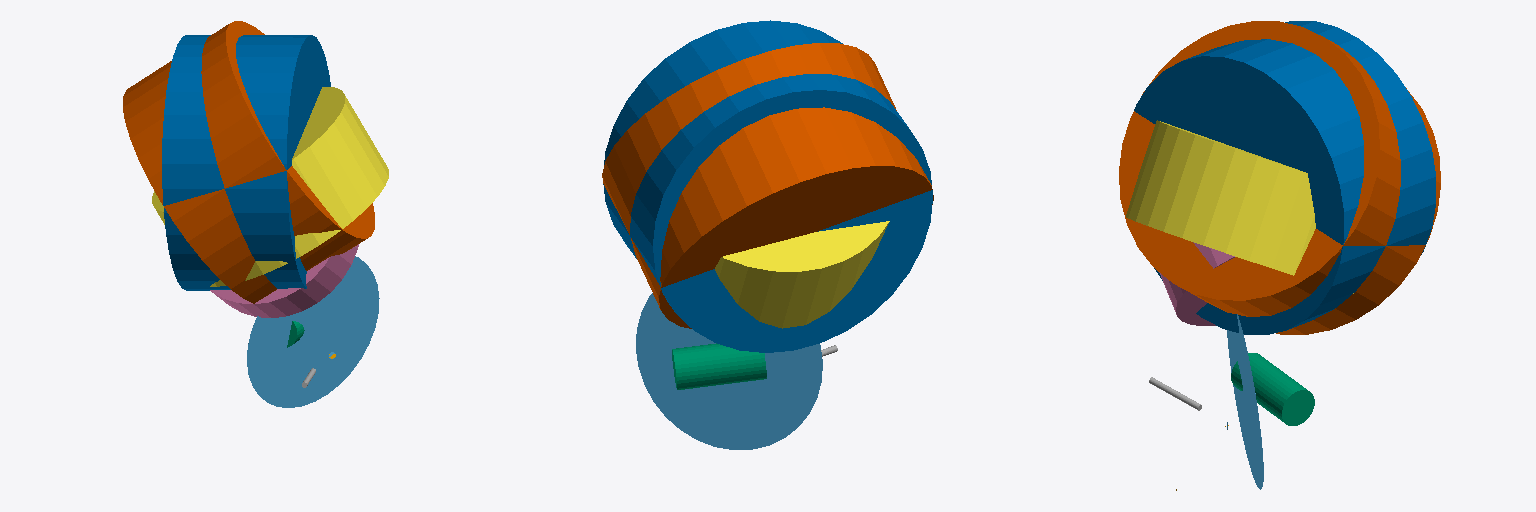
URDF robot description (pepe):
<robot name="pepe">
	<link name="0">
		<visual>
			<geometry>
				<cylinder length="0.019972807067224967" radius="0.002011686301548709"/>
			</geometry>
		</visual>
		<collision>
			<geometry>
				<cylinder length="0.019972807067224967" radius="0.002011686301548709"/>
			</geometry>
		</collision>
		<inertial>
			<mass value="2.5392735959833216e-07"/>
			<inertia ixx="0.03" iyy="0.03" izz="0.03" ixy="0" ixz="0" iyx="0"/>
		</inertial>
	</link>
	<link name="11">
		<visual>
			<geometry>
				<cylinder length="0.00018669200855736634" radius="0.6433571912630214"/>
			</geometry>
		</visual>
		<collision>
			<geometry>
				<cylinder length="0.00018669200855736634" radius="0.6433571912630214"/>
			</geometry>
		</collision>
		<inertial>
			<mass value="0.00024276156039558443"/>
			<inertia ixx="0.03" iyy="0.03" izz="0.03" ixy="0" ixz="0" iyx="0"/>
		</inertial>
	</link>
	<link name="22">
		<visual>
			<geometry>
				<cylinder length="0.5825346973094198" radius="0.1344101030337398"/>
			</geometry>
		</visual>
		<collision>
			<geometry>
				<cylinder length="0.5825346973094198" radius="0.1344101030337398"/>
			</geometry>
		</collision>
		<inertial>
			<mass value="0.03306248549946934"/>
			<inertia ixx="0.03" iyy="0.03" izz="0.03" ixy="0" ixz="0" iyx="0"/>
		</inertial>
	</link>
	<link name="33">
		<visual>
			<geometry>
				<cylinder length="0.6767822617877952" radius="0.8325034157491421"/>
			</geometry>
		</visual>
		<collision>
			<geometry>
				<cylinder length="0.6767822617877952" radius="0.8325034157491421"/>
			</geometry>
		</collision>
		<inertial>
			<mass value="1.473570397274502"/>
			<inertia ixx="0.03" iyy="0.03" izz="0.03" ixy="0" ixz="0" iyx="0"/>
		</inertial>
	</link>
	<link name="74">
		<visual>
			<geometry>
				<cylinder length="0.9525721408762844" radius="0.9599301255418282"/>
			</geometry>
		</visual>
		<collision>
			<geometry>
				<cylinder length="0.9525721408762844" radius="0.9599301255418282"/>
			</geometry>
		</collision>
		<inertial>
			<mass value="2.7575728297932733"/>
			<inertia ixx="0.03" iyy="0.03" izz="0.03" ixy="0" ixz="0" iyx="0"/>
		</inertial>
	</link>
	<link name="75">
		<visual>
			<geometry>
				<cylinder length="0.9525721408762844" radius="0.9599301255418282"/>
			</geometry>
		</visual>
		<collision>
			<geometry>
				<cylinder length="0.9525721408762844" radius="0.9599301255418282"/>
			</geometry>
		</collision>
		<inertial>
			<mass value="2.7575728297932733"/>
			<inertia ixx="0.03" iyy="0.03" izz="0.03" ixy="0" ixz="0" iyx="0"/>
		</inertial>
	</link>
	<link name="46">
		<visual>
			<geometry>
				<cylinder length="0.32991061629635154" radius="0.659888503144035"/>
			</geometry>
		</visual>
		<collision>
			<geometry>
				<cylinder length="0.32991061629635154" radius="0.659888503144035"/>
			</geometry>
		</collision>
		<inertial>
			<mass value="0.45132281440264777"/>
			<inertia ixx="0.03" iyy="0.03" izz="0.03" ixy="0" ixz="0" iyx="0"/>
		</inertial>
	</link>
	<link name="67">
		<visual>
			<geometry>
				<cylinder length="0.4282506855319457" radius="0.021542928580594145"/>
			</geometry>
		</visual>
		<collision>
			<geometry>
				<cylinder length="0.4282506855319457" radius="0.021542928580594145"/>
			</geometry>
		</collision>
		<inertial>
			<mass value="0.0006243921334717215"/>
			<inertia ixx="0.03" iyy="0.03" izz="0.03" ixy="0" ixz="0" iyx="0"/>
		</inertial>
	</link>
	<link name="58">
		<visual>
			<geometry>
				<cylinder length="0.00153756204312816" radius="0.02708229181987041"/>
			</geometry>
		</visual>
		<collision>
			<geometry>
				<cylinder length="0.00153756204312816" radius="0.02708229181987041"/>
			</geometry>
		</collision>
		<inertial>
			<mass value="3.5428547611058314e-06"/>
			<inertia ixx="0.03" iyy="0.03" izz="0.03" ixy="0" ixz="0" iyx="0"/>
		</inertial>
	</link>
	<link name="59">
		<visual>
			<geometry>
				<cylinder length="0.00153756204312816" radius="0.02708229181987041"/>
			</geometry>
		</visual>
		<collision>
			<geometry>
				<cylinder length="0.00153756204312816" radius="0.02708229181987041"/>
			</geometry>
		</collision>
		<inertial>
			<mass value="3.5428547611058314e-06"/>
			<inertia ixx="0.03" iyy="0.03" izz="0.03" ixy="0" ixz="0" iyx="0"/>
		</inertial>
	</link>
	<joint name="11_to_0" type="revolute">
		<parent link="0"/>
		<child link="11"/>
		<axis xyz="0 0 1"/>
		<limit effort="1" upper="-3.1415" lower="3.1415" velocity="1"/>
		<origin rpy="4.599220098856529 3.612390086619138 0.21865470734290898" xyz="0.6270726565351545 0.45386870664634127 0.9934344682645572"/>
	</joint>
	<joint name="22_to_11" type="revolute">
		<parent link="11"/>
		<child link="22"/>
		<axis xyz="1 0 0"/>
		<limit effort="1" upper="-3.1415" lower="3.1415" velocity="1"/>
		<origin rpy="11.626505171087503 5.516802298202429 0.7791319437868018" xyz="0.0019279200350848108 0.0005248485264476697 0.18877120123119884"/>
	</joint>
	<joint name="33_to_11" type="revolute">
		<parent link="11"/>
		<child link="33"/>
		<axis xyz="0 1 0"/>
		<limit effort="1" upper="-3.1415" lower="3.1415" velocity="1"/>
		<origin rpy="15.855197879314145 4.22851677776207 0.5600087386388388" xyz="0.807546668794237 0.9347432046170919 0.26792392211434435"/>
	</joint>
	<joint name="74_to_33" type="revolute">
		<parent link="33"/>
		<child link="74"/>
		<axis xyz="0 1 0"/>
		<limit effort="1" upper="-3.1415" lower="3.1415" velocity="1"/>
		<origin rpy="1.1237722998584785 3.348510114491183 5.698737545195735" xyz="0.06871412873716953 0.028629970202144972 0.23027762422650355"/>
	</joint>
	<joint name="75_to_33" type="revolute">
		<parent link="33"/>
		<child link="75"/>
		<axis xyz="0 1 0"/>
		<limit effort="1" upper="-3.1415" lower="3.1415" velocity="1"/>
		<origin rpy="1.6856584497877178 3.348510114491183 5.698737545195735" xyz="0.06871412873716953 0.028629970202144972 0.23027762422650355"/>
	</joint>
	<joint name="46_to_11" type="revolute">
		<parent link="11"/>
		<child link="46"/>
		<axis xyz="0 0 1"/>
		<limit effort="1" upper="-3.1415" lower="3.1415" velocity="1"/>
		<origin rpy="0.20102529232781646 1.3953726500600625 3.620509695951334" xyz="0.6345348520150791 0.6369416216841768 0.23249578398044024"/>
	</joint>
	<joint name="67_to_46" type="revolute">
		<parent link="46"/>
		<child link="67"/>
		<axis xyz="1 0 0"/>
		<limit effort="1" upper="-3.1415" lower="3.1415" velocity="1"/>
		<origin rpy="0.5392447876458663 3.4902134344414972 2.629317776859516" xyz="0.7645397743925203 0.7419708613084566 0.4547575271281963"/>
	</joint>
	<joint name="58_to_0" type="revolute">
		<parent link="0"/>
		<child link="58"/>
		<axis xyz="0 0 1"/>
		<limit effort="1" upper="-3.1415" lower="3.1415" velocity="1"/>
		<origin rpy="6.012776117008107 0.49041554351940575 3.3105613913002006" xyz="0.7252082934959747 0.33647244760358364 0.807868748932156"/>
	</joint>
	<joint name="59_to_0" type="revolute">
		<parent link="0"/>
		<child link="59"/>
		<axis xyz="0 0 1"/>
		<limit effort="1" upper="-3.1415" lower="3.1415" velocity="1"/>
		<origin rpy="8.017034822677475 0.49041554351940575 3.3105613913002006" xyz="0.7252082934959747 0.33647244760358364 0.807868748932156"/>
	</joint>
</robot>

--- Facts derived from the render (not from the file) ---
Views: 3 orthographic renders of the robot side by side, from view 1: azimuth 30°, elevation 25°; view 2: azimuth 150°, elevation 25°; view 3: azimuth 270°, elevation 25°.
Robot: pepe — 10 links, 9 joints (9 revolute); root link 0; default pose: every joint at zero.
Links seen in each view (by area): view 1: 74, 75, 11, 33, 46; view 2: 75, 74, 11, 33, 22; view 3: 74, 75, 33, 22, 11, 46.
Link boxes in pixels (<box>): 74: <box>162,35,330,290</box>; 75: <box>123,21,374,303</box>; 11: <box>247,256,379,407</box>; 33: <box>152,87,388,286</box>; 46: <box>210,244,358,317</box>; 75: <box>602,43,933,328</box>; 74: <box>603,20,932,352</box>; 11: <box>636,293,822,449</box>; 33: <box>715,221,889,328</box>; 22: <box>672,343,766,389</box>; 74: <box>1134,21,1435,334</box>; 75: <box>1119,21,1440,334</box>; 33: <box>1126,120,1353,293</box>; 22: <box>1231,353,1314,425</box>; 11: <box>1227,314,1263,489</box>; 46: <box>1159,242,1234,325</box>.
Bounding box of the posed robot: 2.07 × 2.14 × 3.45 m (x, y, z).
Geometry: primitives only (box / cylinder / sphere), no mesh files.
